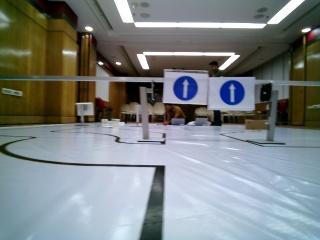straight: (166, 69, 212, 105), (211, 74, 255, 111)
